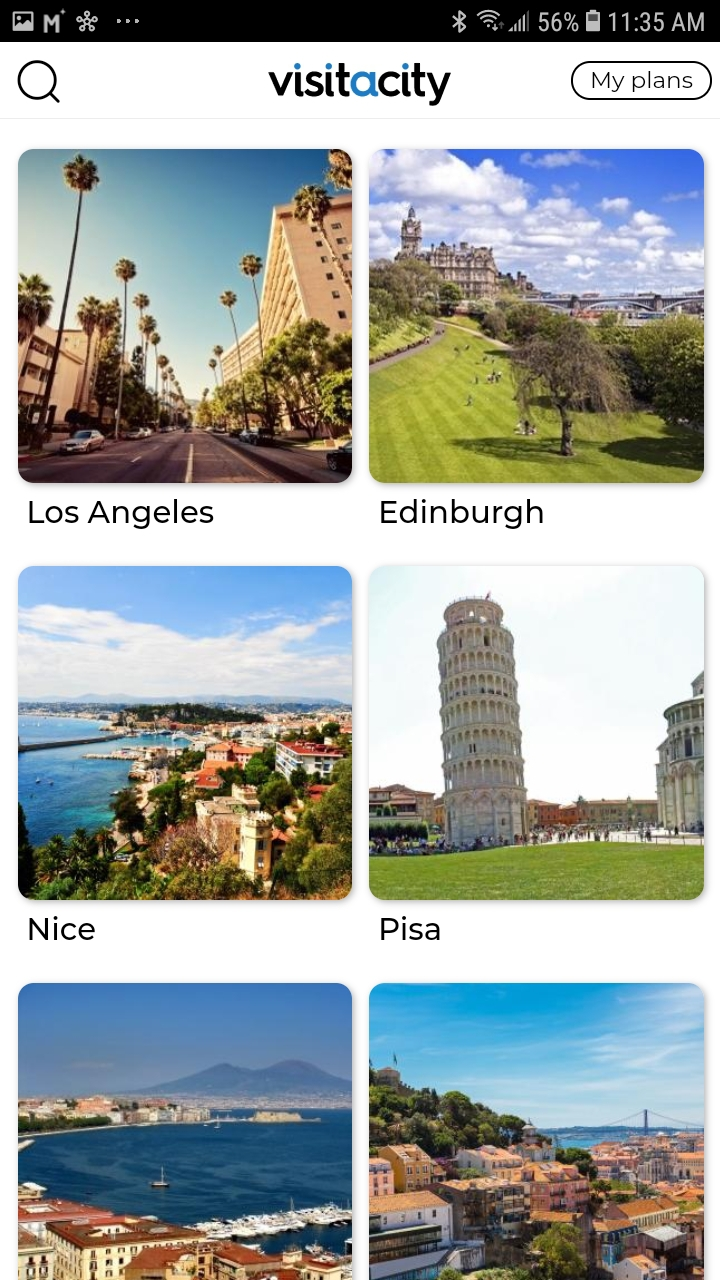Icon: (17, 60, 61, 105)
Image: (369, 566, 705, 901), (19, 149, 354, 485), (18, 566, 353, 901), (369, 149, 704, 484), (18, 982, 353, 1280), (369, 983, 703, 1280), (269, 63, 452, 107)
Text: (30, 500, 215, 530), (381, 499, 544, 531), (30, 915, 97, 941), (381, 915, 441, 942)
TextButton: (571, 62, 713, 102)
UpperTaskBar: (1, 1, 720, 43)
